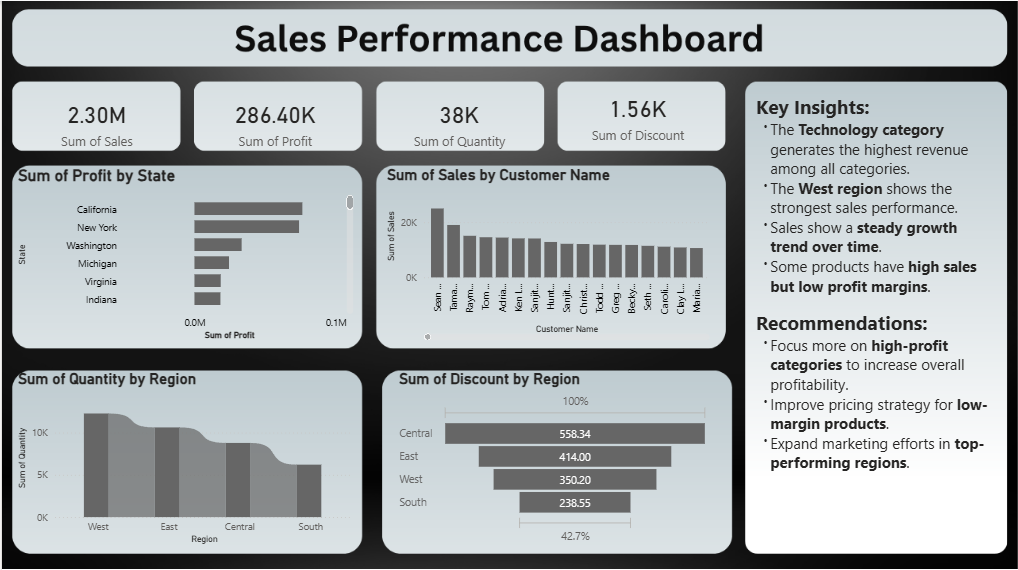

Layout of this report page (visuals, bound fields, positions):
{"tool":"powerbi","page":{"name":"Page 1","canvas":[1280,720],"ordinal":0},"visuals":[{"type":"card","fields":{"Values":["Sum(Sample - Superstore.Sales)"]},"box":[16,112,208,80],"z":0},{"type":"card","fields":{"Values":["Sum(Sample - Superstore.Profit)"]},"box":[240,112,208,80],"z":1000},{"type":"card","fields":{"Values":["Sum(Sample - Superstore.Quantity)"]},"box":[480,112,192,80],"z":2000},{"type":"card","fields":{"Values":["Sum(Sample - Superstore.Discount)"]},"box":[704,96,192,96],"z":3000},{"type":"clusteredBarChart","fields":{"Category":["Sample - Superstore.State"],"Y":["Sum(Sample - Superstore.Profit)"]},"box":[16,208,432,224],"z":4000},{"type":"clusteredColumnChart","fields":{"Y":["Sum(Sample - Superstore.Sales)"],"Category":["Sample - Superstore.Customer Name"]},"box":[480,208,416,224],"z":5000},{"type":"ribbonChart","fields":{"Y":["Sum(Sample - Superstore.Quantity)"],"Category":["Sample - Superstore.Region"]},"box":[16,464,432,224],"z":6000},{"type":"funnel","fields":{"Category":["Sample - Superstore.Region"],"Y":["Sum(Sample - Superstore.Discount)"]},"box":[496,464,400,224],"z":7000},{"type":"textbox","box":[944,112,304,512],"z":8000}]}

Visuals, with their boxes in screenshot pixels (x1, y1, x2, y2), scaled from the page's 1280x720 canvas onto the 1018x570 screenshot:
card - Sum(Sample - Superstore.Sales): BBox(13, 89, 178, 152)
card - Sum(Sample - Superstore.Profit): BBox(191, 89, 356, 152)
card - Sum(Sample - Superstore.Quantity): BBox(382, 89, 534, 152)
card - Sum(Sample - Superstore.Discount): BBox(560, 76, 713, 152)
clusteredBarChart - Sample - Superstore.State x Sum(Sample - Superstore.Profit): BBox(13, 165, 356, 342)
clusteredColumnChart - Sum(Sample - Superstore.Sales) x Sample - Superstore.Customer Name: BBox(382, 165, 713, 342)
ribbonChart - Sum(Sample - Superstore.Quantity) x Sample - Superstore.Region: BBox(13, 367, 356, 545)
funnel - Sample - Superstore.Region x Sum(Sample - Superstore.Discount): BBox(394, 367, 713, 545)
textbox: BBox(751, 89, 993, 494)
